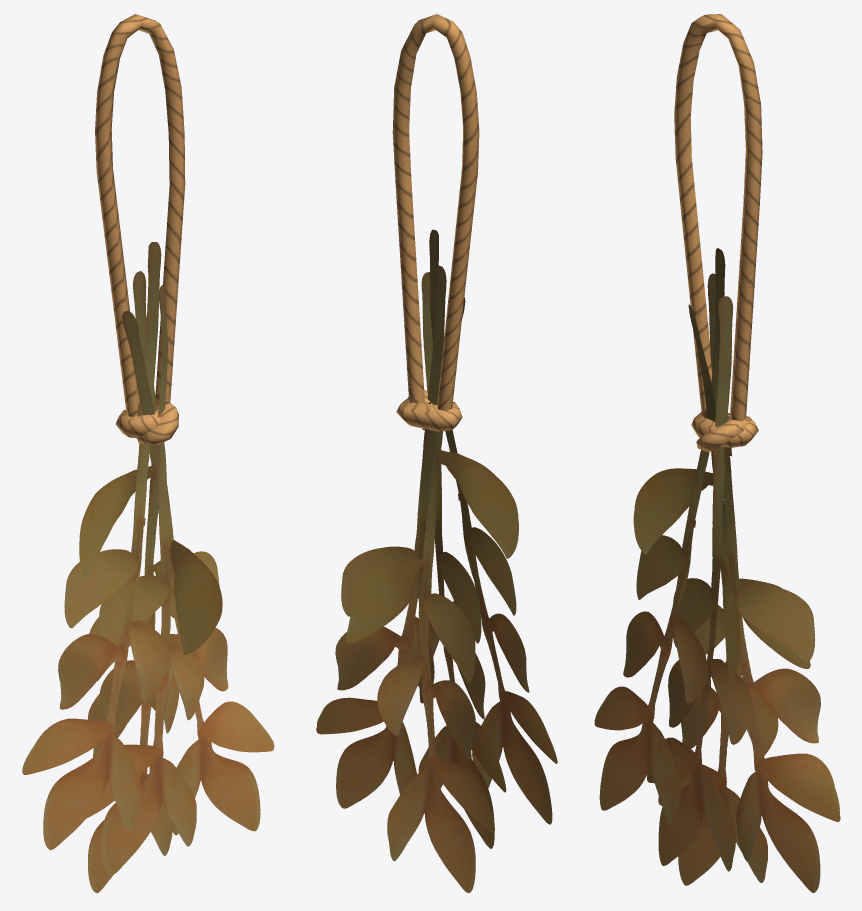
File: SM_Potion_Props_Herb_Broom_Wall_06.fbx
3 views of the same model, side by side, from view 1: azimuth 30°, elevation 25°; view 2: azimuth 150°, elevation 25°; view 3: azimuth 330°, elevation 25° (orthographic).
Parts seen in each view (by area): view 1: SM_Potion_Props_Herb_Broom_Wall_06_LOD0; view 2: SM_Potion_Props_Herb_Broom_Wall_06_LOD0; view 3: SM_Potion_Props_Herb_Broom_Wall_06_LOD0.
Boxes of the visible parts, x1=… form: SM_Potion_Props_Herb_Broom_Wall_06_LOD0: x1=22, y1=14, x2=274, y2=893; SM_Potion_Props_Herb_Broom_Wall_06_LOD0: x1=316, y1=14, x2=557, y2=892; SM_Potion_Props_Herb_Broom_Wall_06_LOD0: x1=594, y1=14, x2=840, y2=892.
Size of what is drawn, in the model's own units: 22.85 by 73.4 by 7.48.
